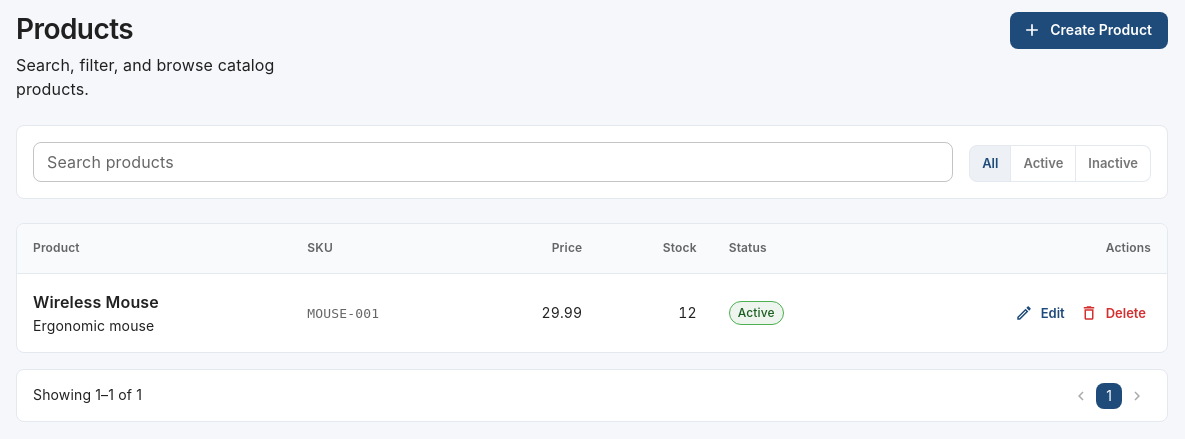
ProductsPage › shows the filtered-empty state and clears filters
The width and height of the screenshot is (1185, 439).
Check: the text "Wireless Mouse" is shown, box [33, 292, 159, 312]
Click the button "Inactive" at x=1113, y=164, box [1075, 145, 1151, 182]
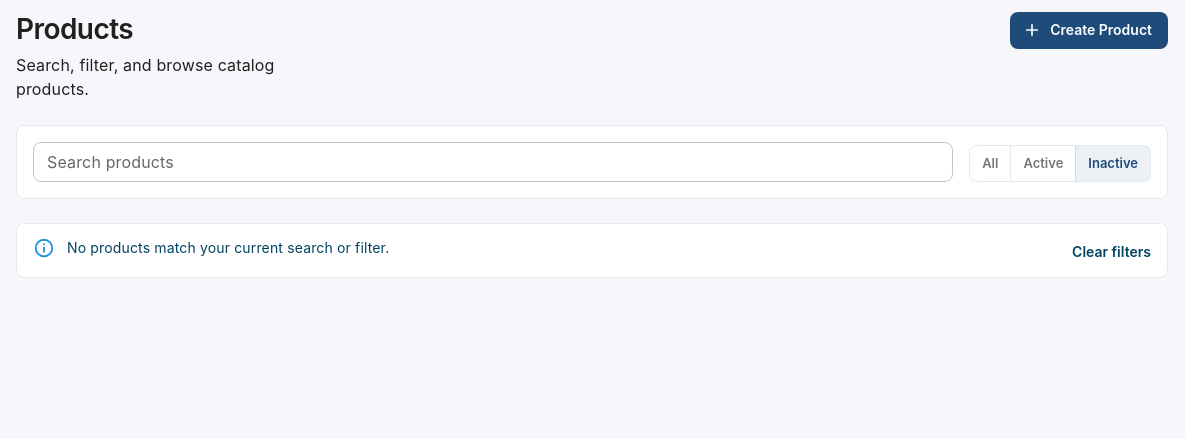
Check: the text "No products match your current search or filter." is shown, box [67, 239, 389, 256]
Click the button "Clear filters" at x=1112, y=252, box [1064, 234, 1159, 270]
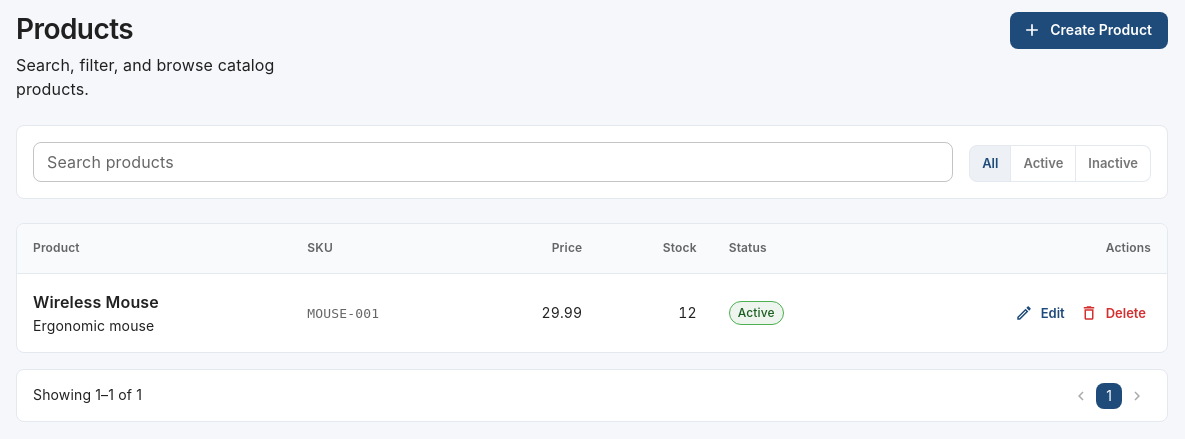
Check: the text "Wireless Mouse" is shown, box [33, 292, 159, 312]
